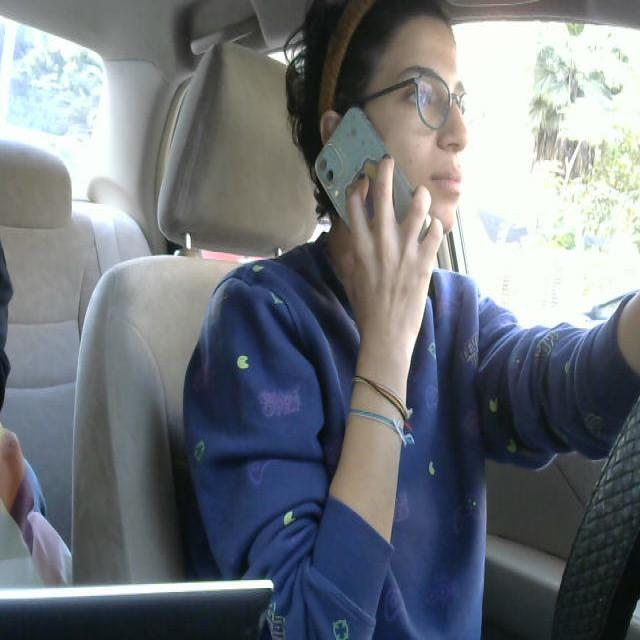mobile use: (313, 109, 444, 298)
